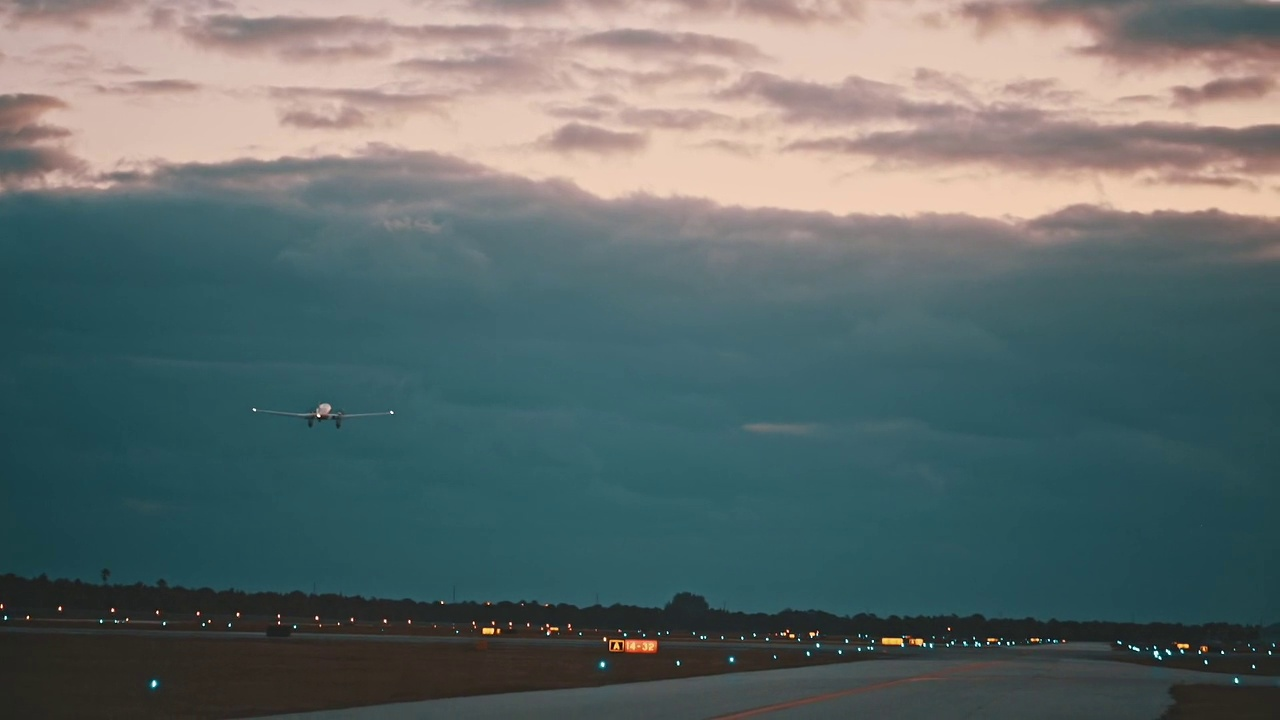plane: (252, 399, 396, 430)
